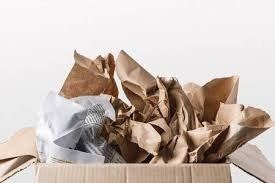paper: (114, 54, 275, 166), (20, 147, 255, 183), (29, 88, 120, 173), (56, 46, 119, 100)
